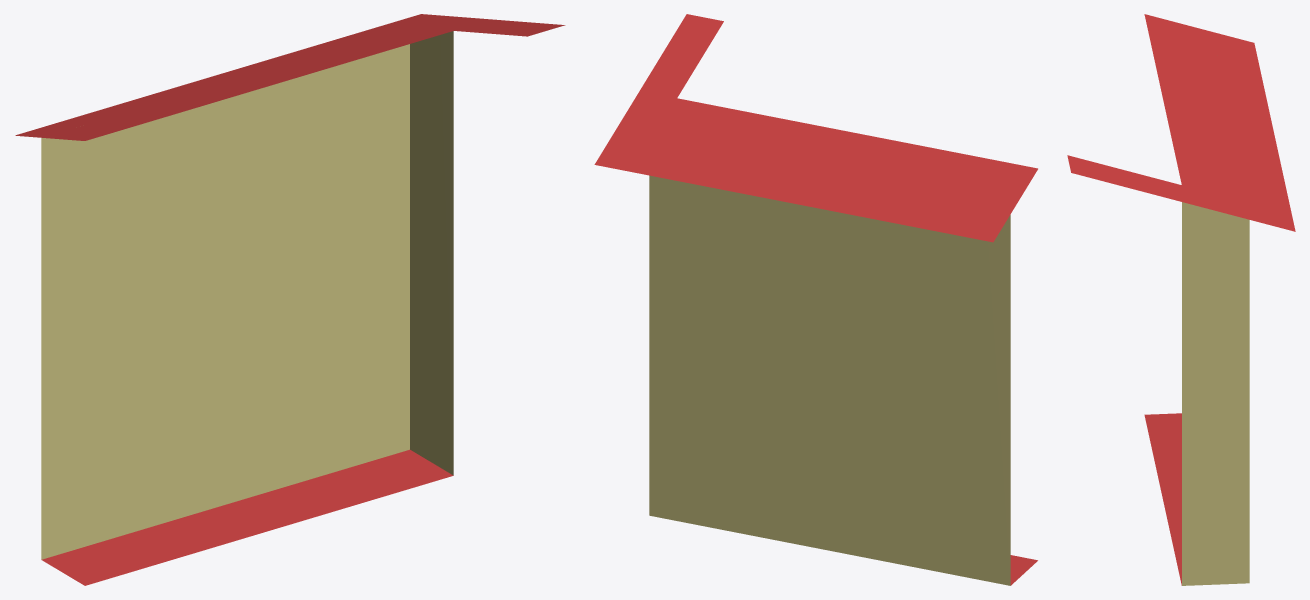
The picture shows the model from 3 angles, left to right: view 1: azimuth 30°, elevation 25°; view 2: azimuth 150°, elevation 25°; view 3: azimuth 270°, elevation 25°; orthographic projection. The views are drawn at different scales.
Bounding box in the file's own units: 8.31 × 4.05 × 8.52.
